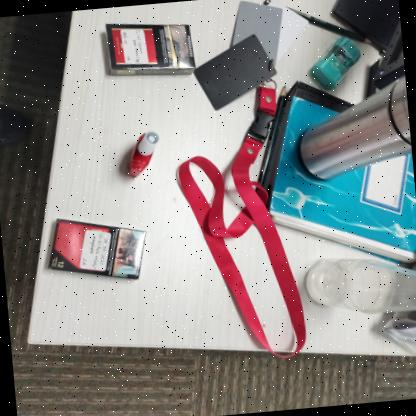bungkus rokok: (36, 202, 153, 292), (95, 8, 202, 87)
